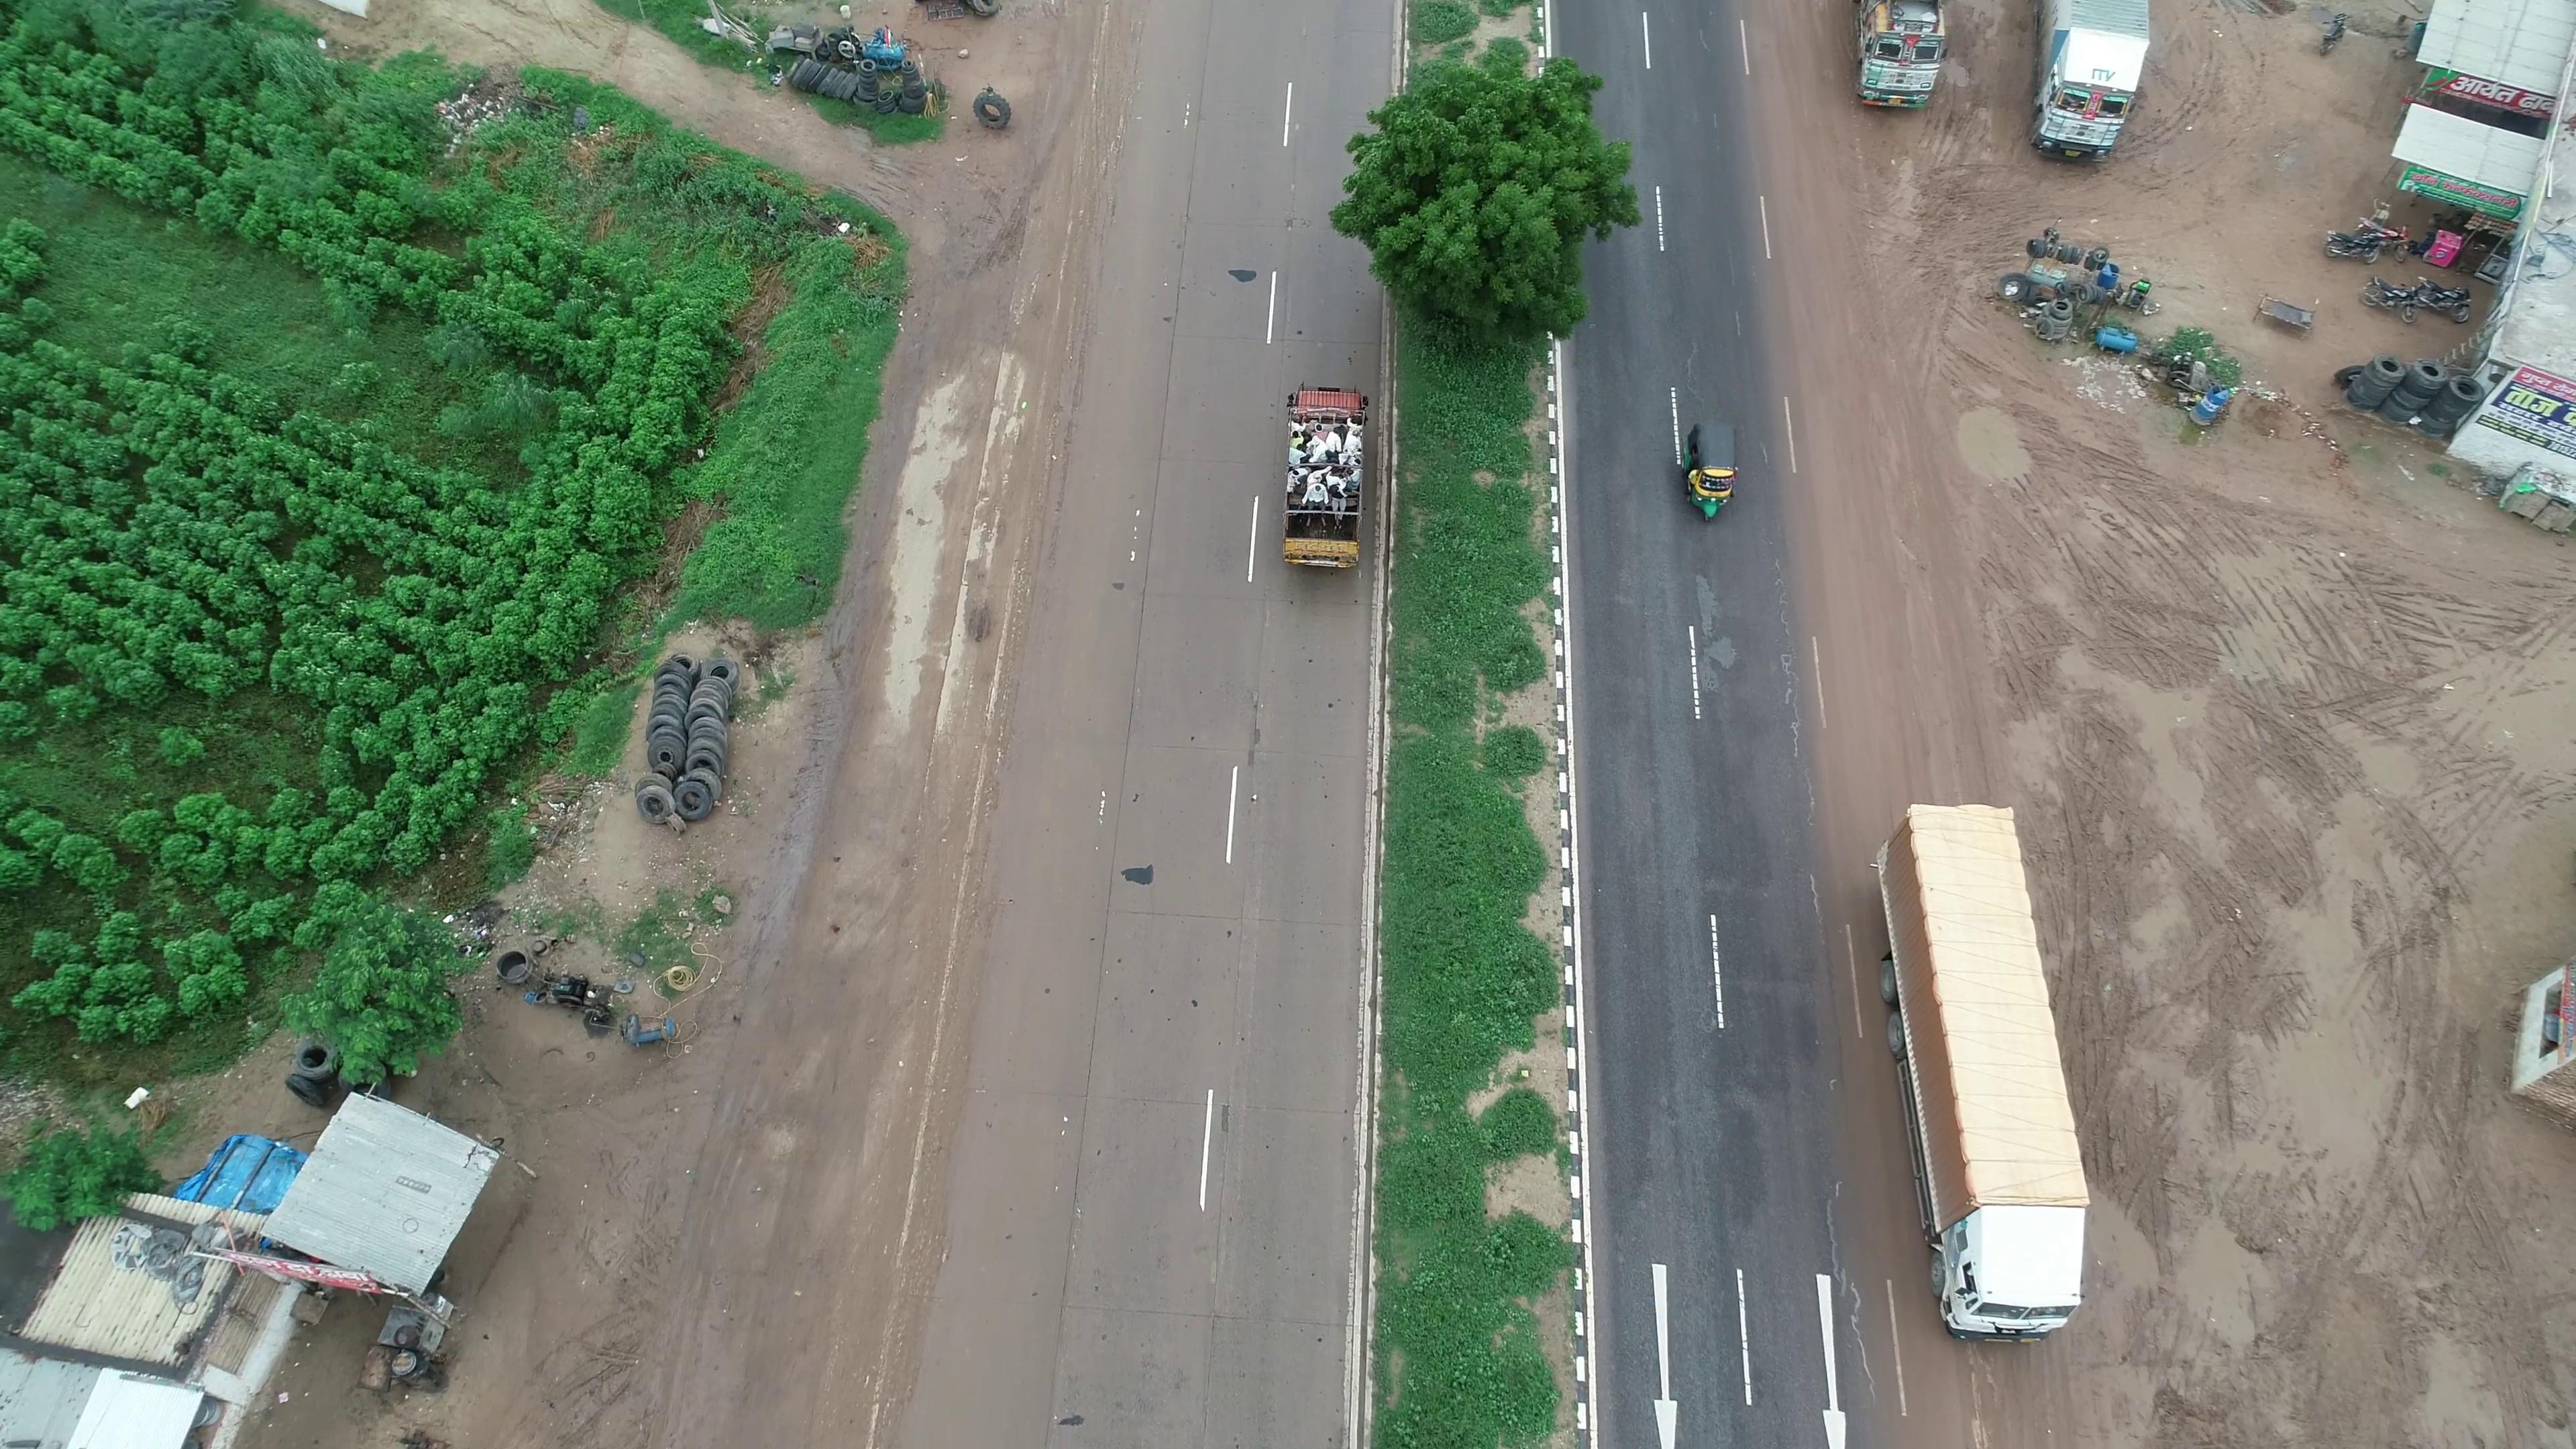Muddy_road: (1767, 101, 1980, 791)
